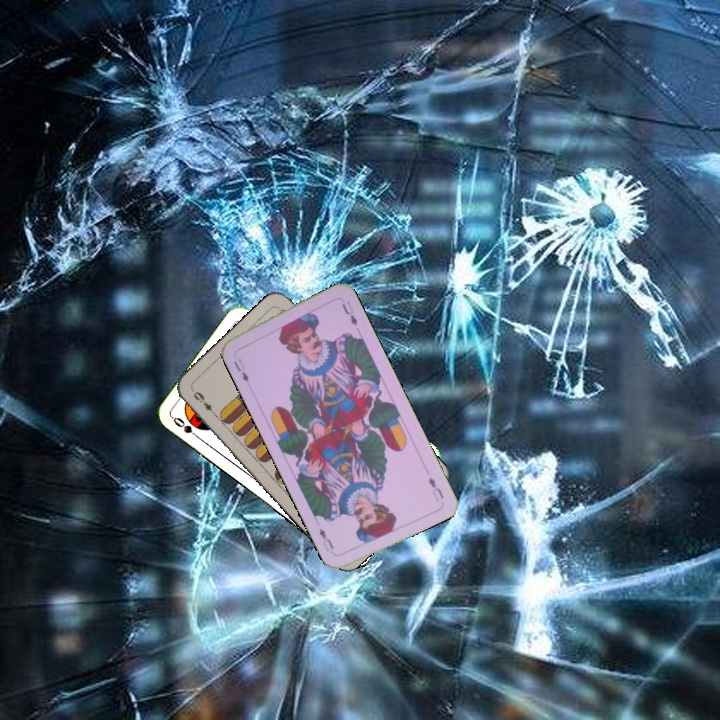E9: (188, 386, 219, 419)
EU: (424, 473, 447, 503), (229, 354, 251, 385)
SO: (169, 413, 203, 442)
